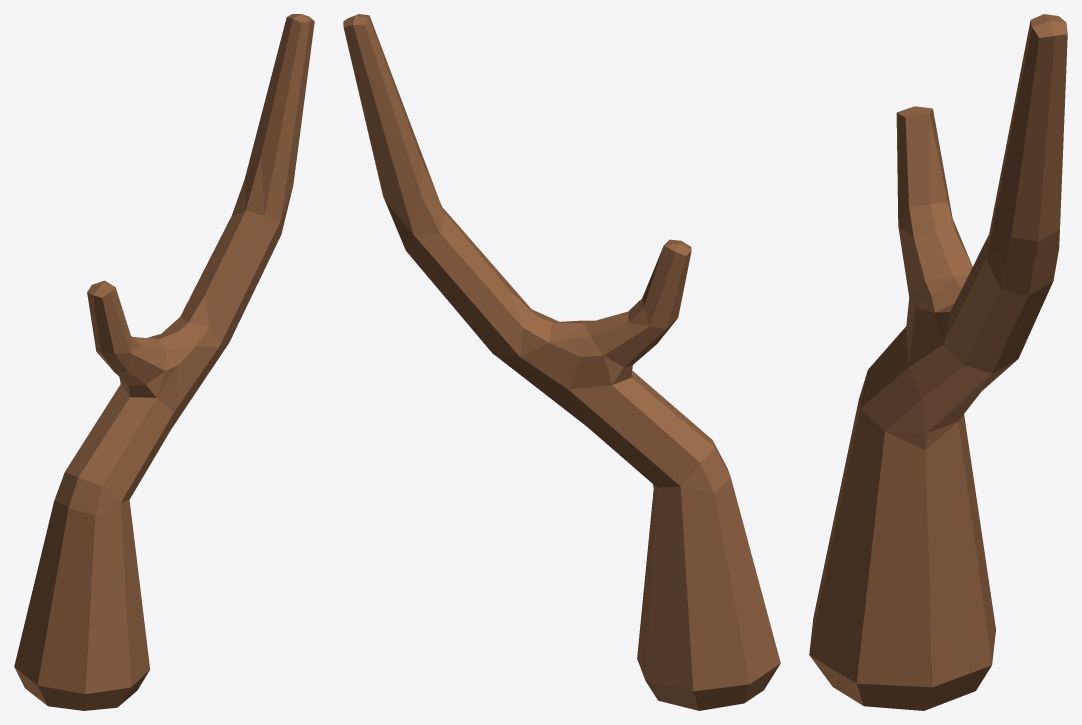
File: tree-dead-trunk-019.glb
3 renders of one model, left to right at view 1: azimuth 30°, elevation 25°; view 2: azimuth 150°, elevation 25°; view 3: azimuth 270°, elevation 25°, orthographic. The views are drawn at different scales.
Visible parts, largest first — view 1: Icosphere.016_465; view 2: Icosphere.016_465; view 3: Icosphere.016_465.
Boxes of the visible parts, x1,y1,x2,y2 form: Icosphere.016_465: (14, 14, 314, 710); Icosphere.016_465: (343, 14, 780, 710); Icosphere.016_465: (809, 14, 1067, 710).
Size of the model in its own units: 0.7208 by 1.21 by 0.3276.
